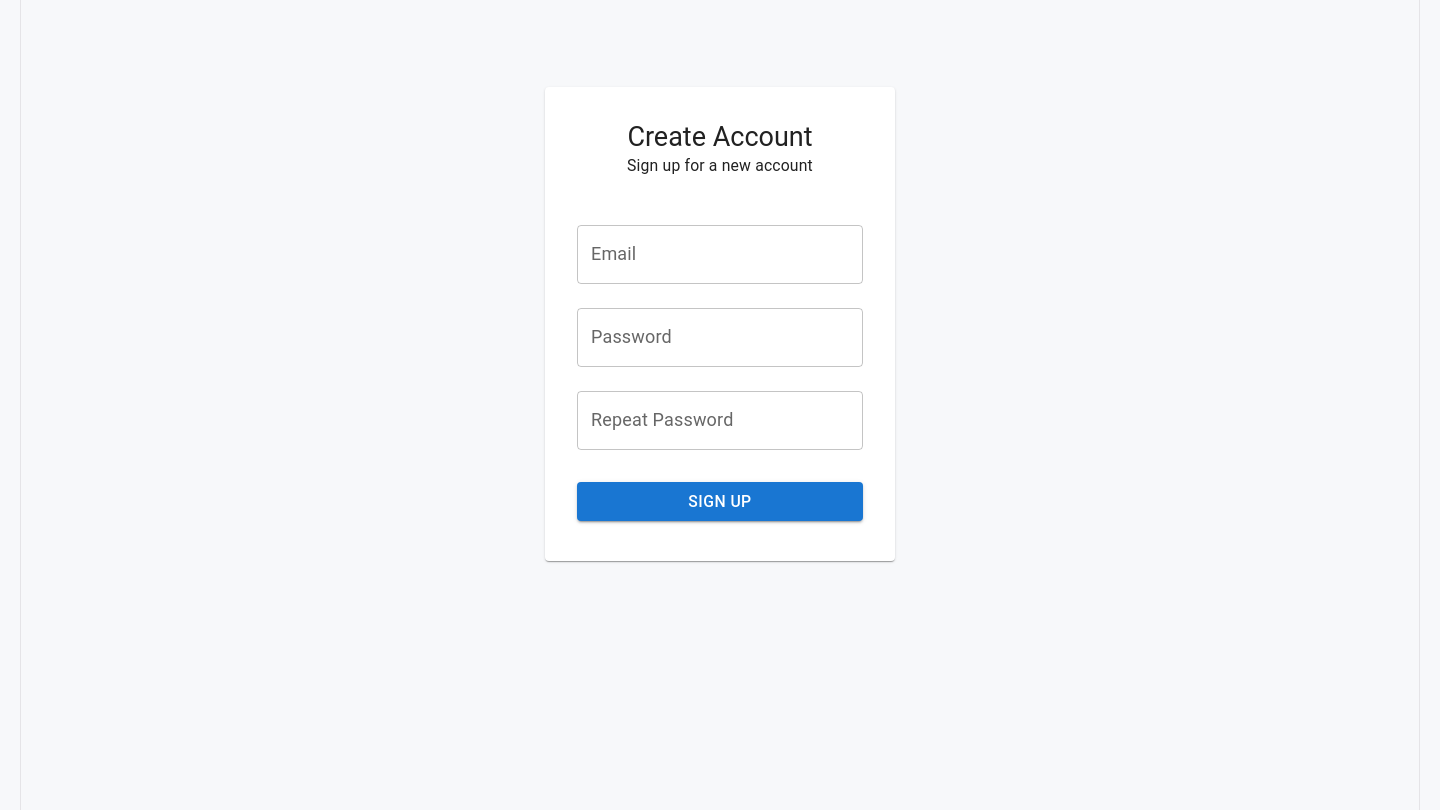
Scenario: Signup › shows the server's reason when the address is taken
Type "taken@example.com" into the field labelled "Email".
click(720, 255); type("taken@example.com")  # box [577,225,863,284]
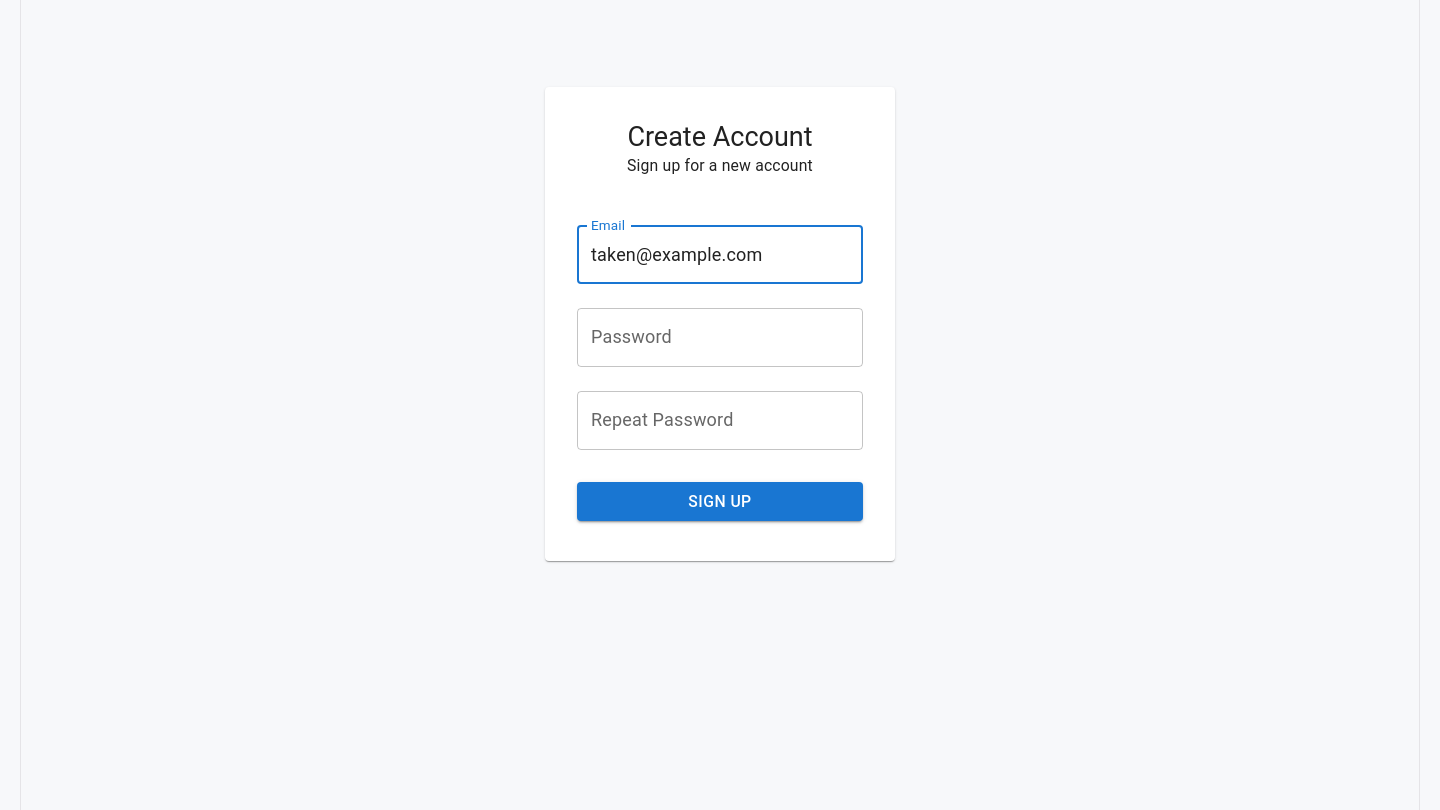
Type "Password123!" into the password field labelled "Password".
click(720, 337); type("Password123!")  # box [577,308,863,367]
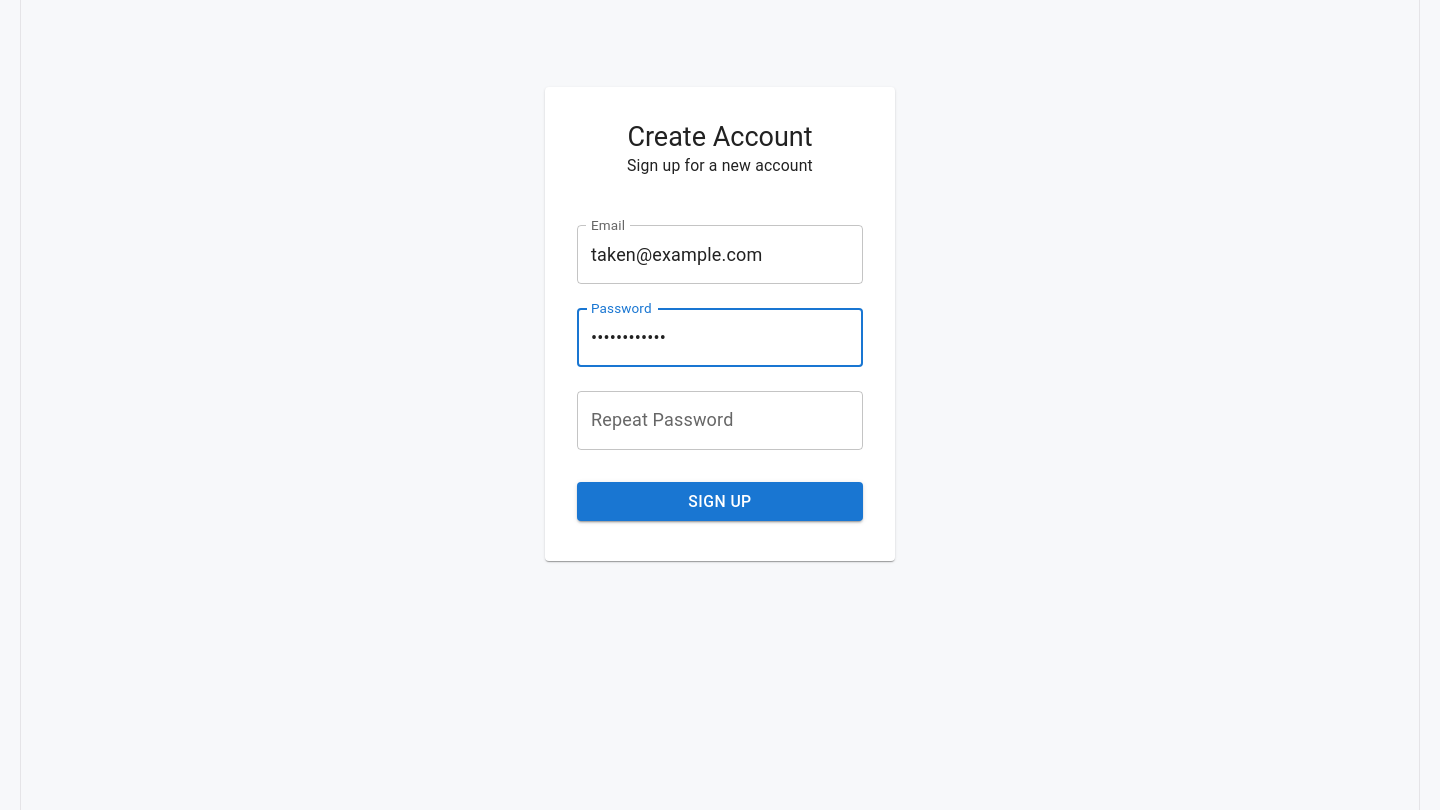
Type "Password123!" into the password field labelled "Repeat Password".
click(720, 420); type("Password123!")  # box [577,391,863,450]
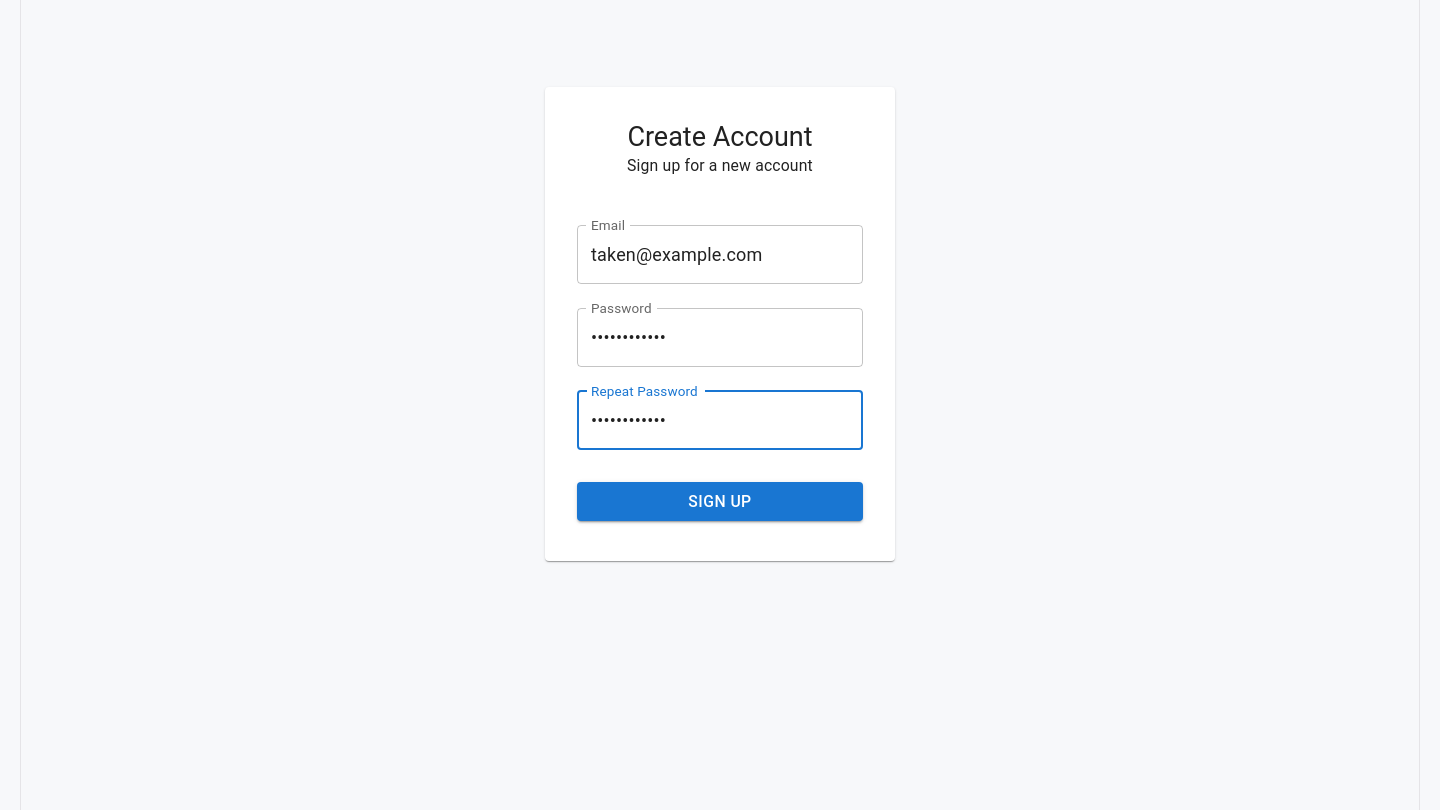
Click the button "Sign Up".
click(720, 502)  # box [577,482,863,521]
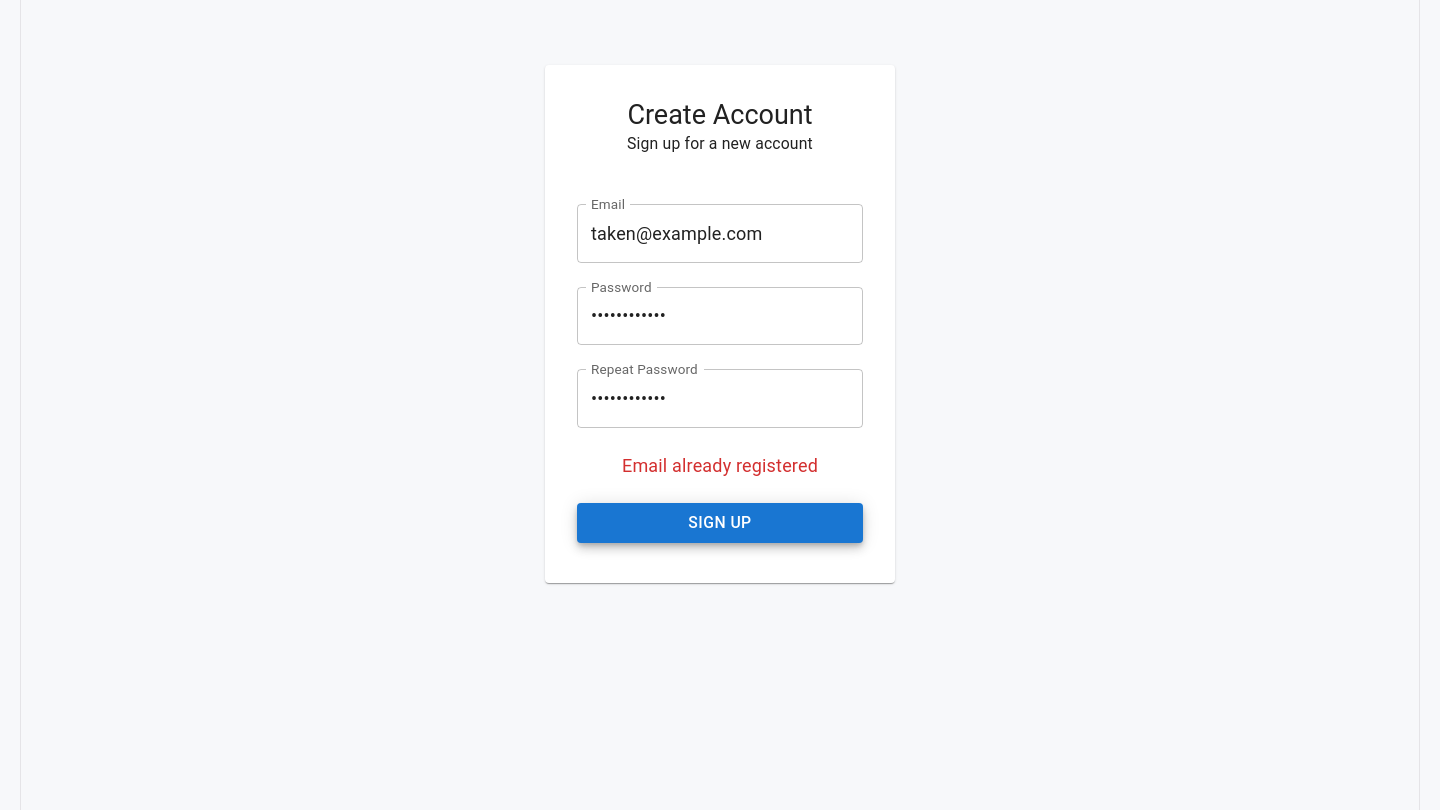
Now the text "Email already registered" is shown, box [622,455,818,476]
